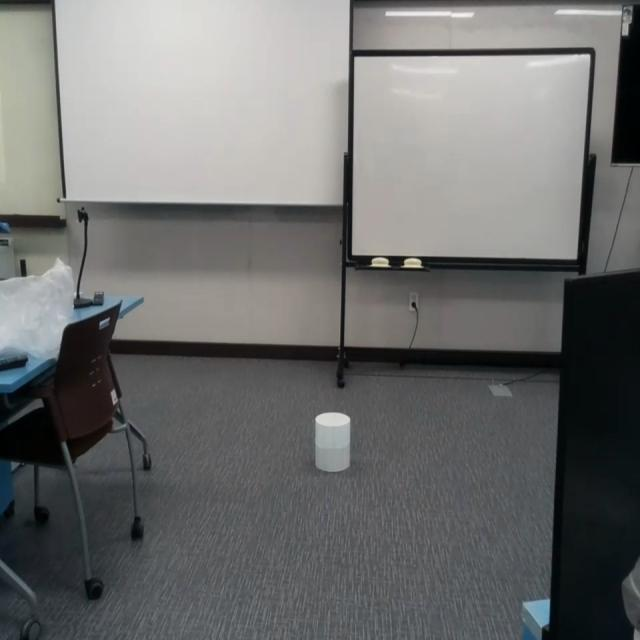cylinder: (315, 412, 351, 473)
